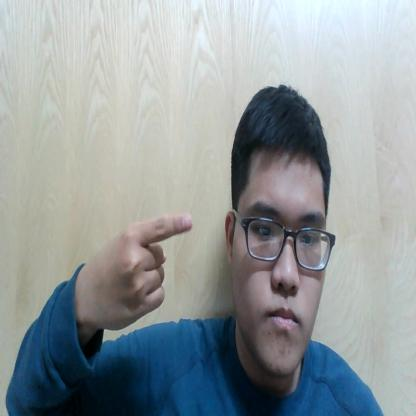left: (82, 203, 195, 341)
